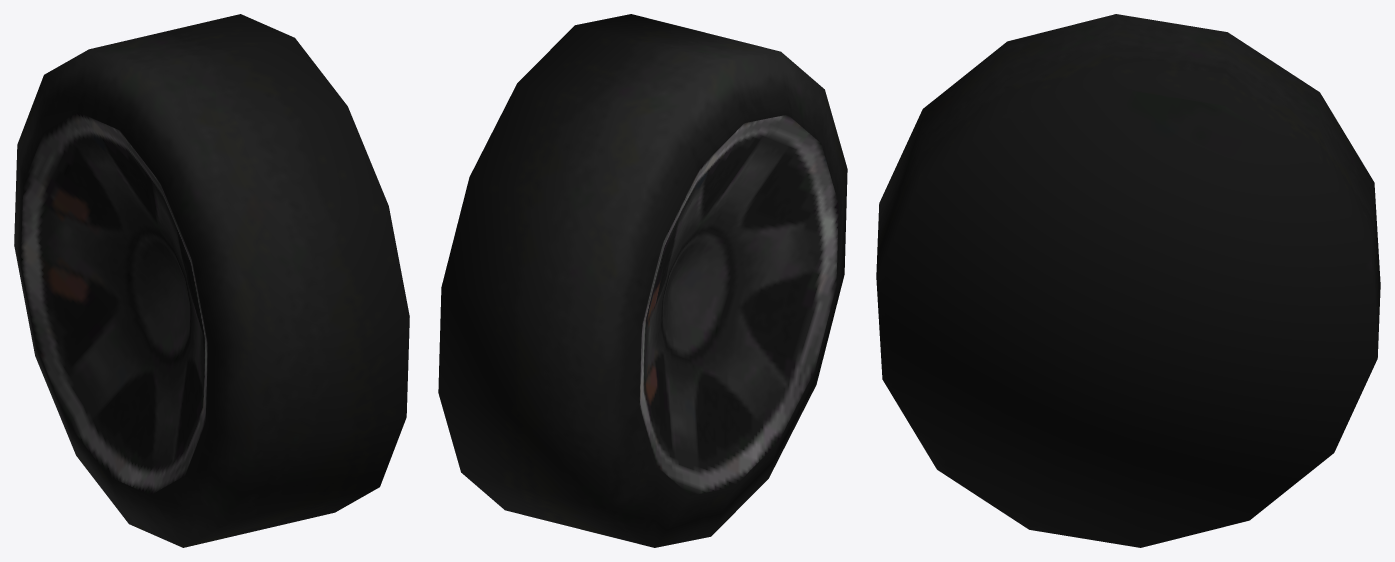
The model's file is DX Mark 10_RuedaIzq.obj.
3 renders of one model, left to right at view 1: azimuth 30°, elevation 25°; view 2: azimuth 150°, elevation 25°; view 3: azimuth 270°, elevation 25°, orthographic.
Visible parts, largest first — view 1: RuedaIzq; view 2: RuedaIzq; view 3: RuedaIzq.
Boxes of the visible parts, left/top/right/bottom form: RuedaIzq: left=14, top=14, right=409, bottom=547; RuedaIzq: left=438, top=14, right=847, bottom=547; RuedaIzq: left=876, top=14, right=1380, bottom=547.
Size of the model in its own units: 0.6124 by 1.51 by 1.5.
